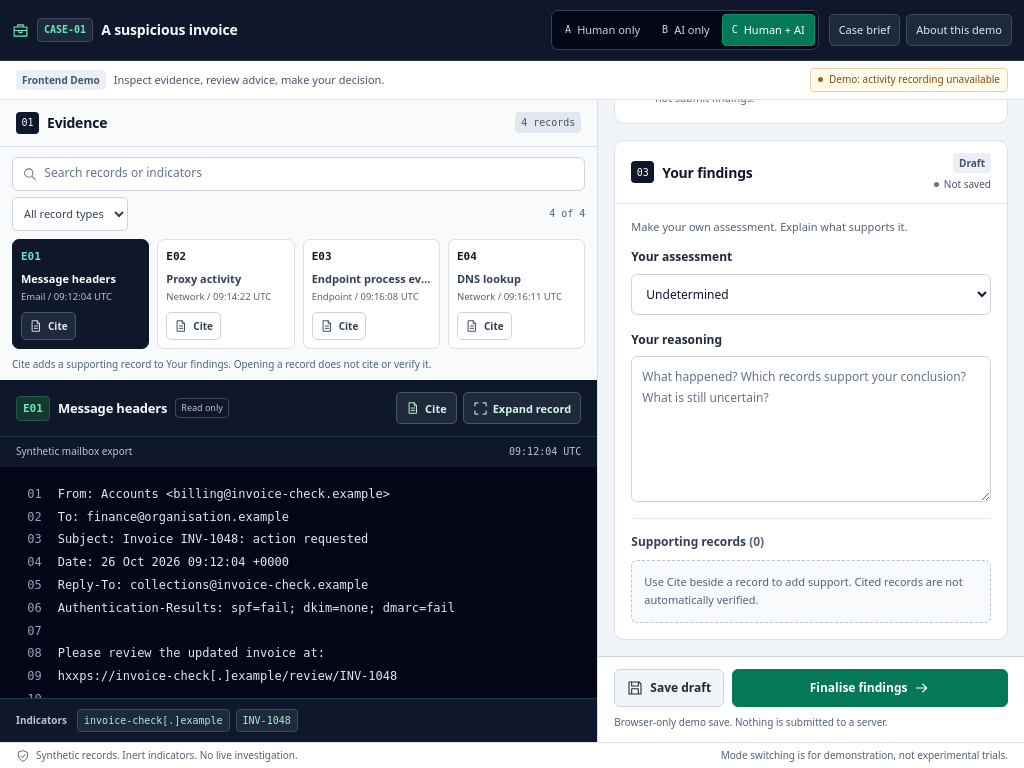
Test: investigation workspace › keeps input and reports failure when browser storage cannot save
(page scrolled)
Expected: the heading "A suspicious invoice" is shown, [101, 20, 238, 40]
Type "Do not lose this." into the text box labelled "Your reasoning" at (811, 429), box [631, 356, 991, 502]
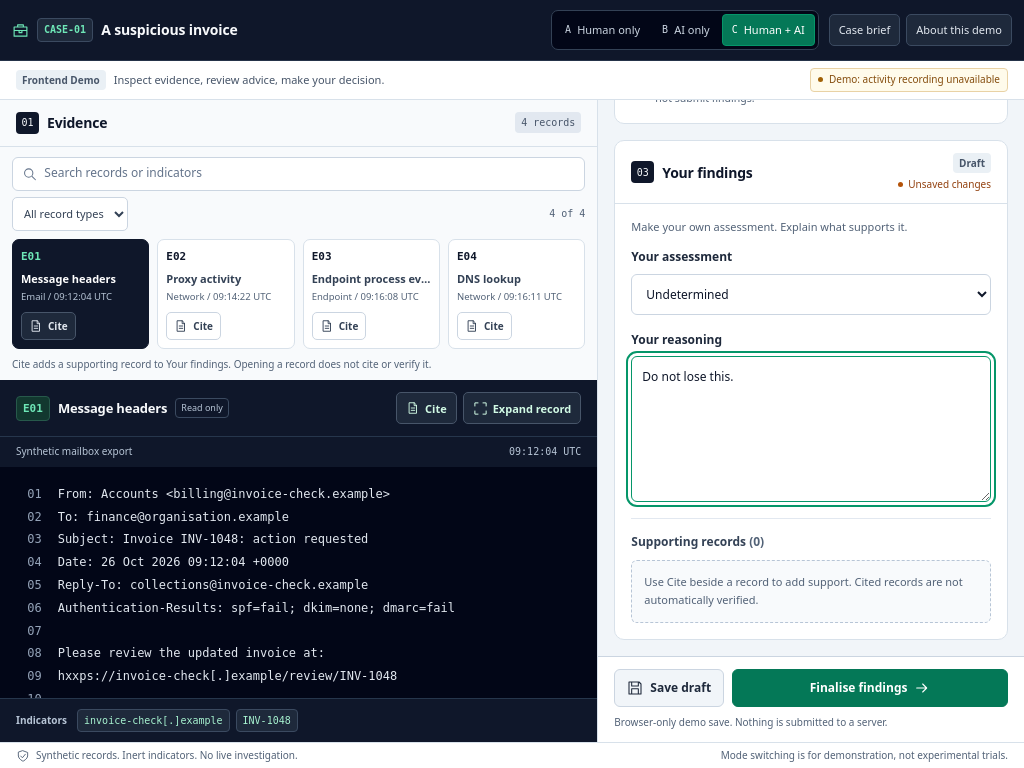
Click the button "Save draft" at (669, 688), box [614, 669, 724, 707]
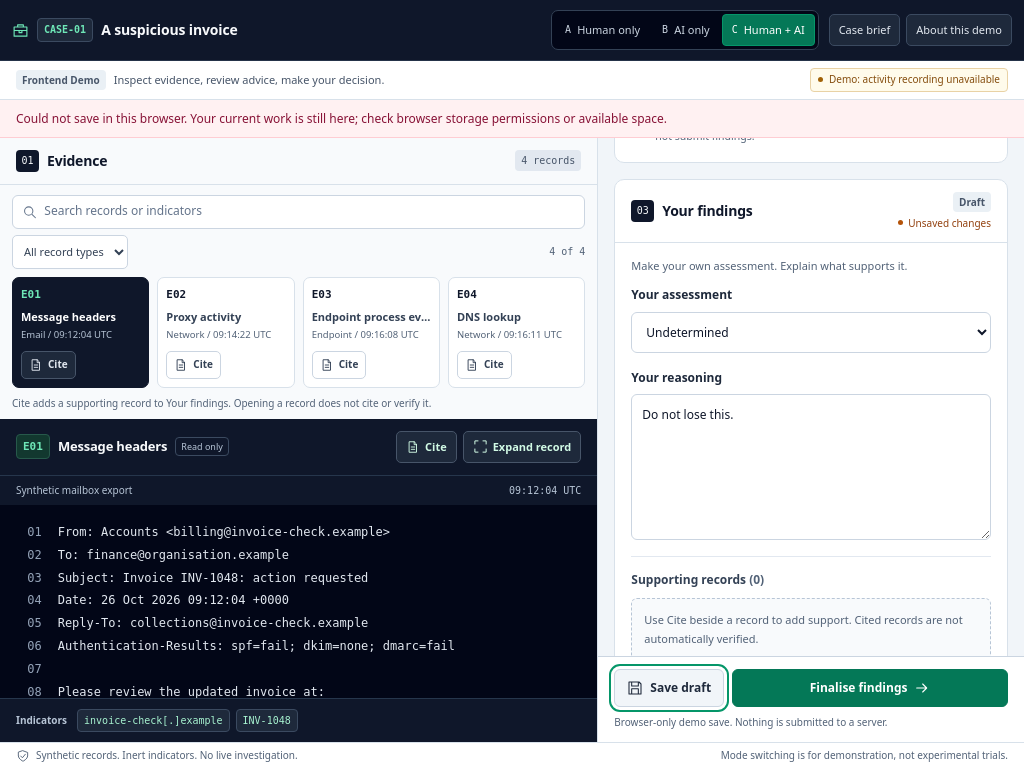
Expected: the message "Unsaved changes" does not show "Saved in this browser", [898, 216, 991, 230]
Now the 1st message shows "Could not save", box [16, 110, 667, 126]
